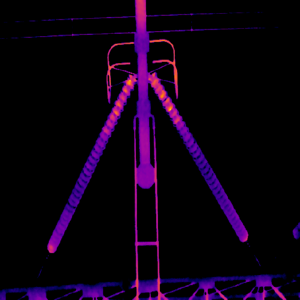insulator: (146, 71, 247, 243), (46, 72, 137, 254)
